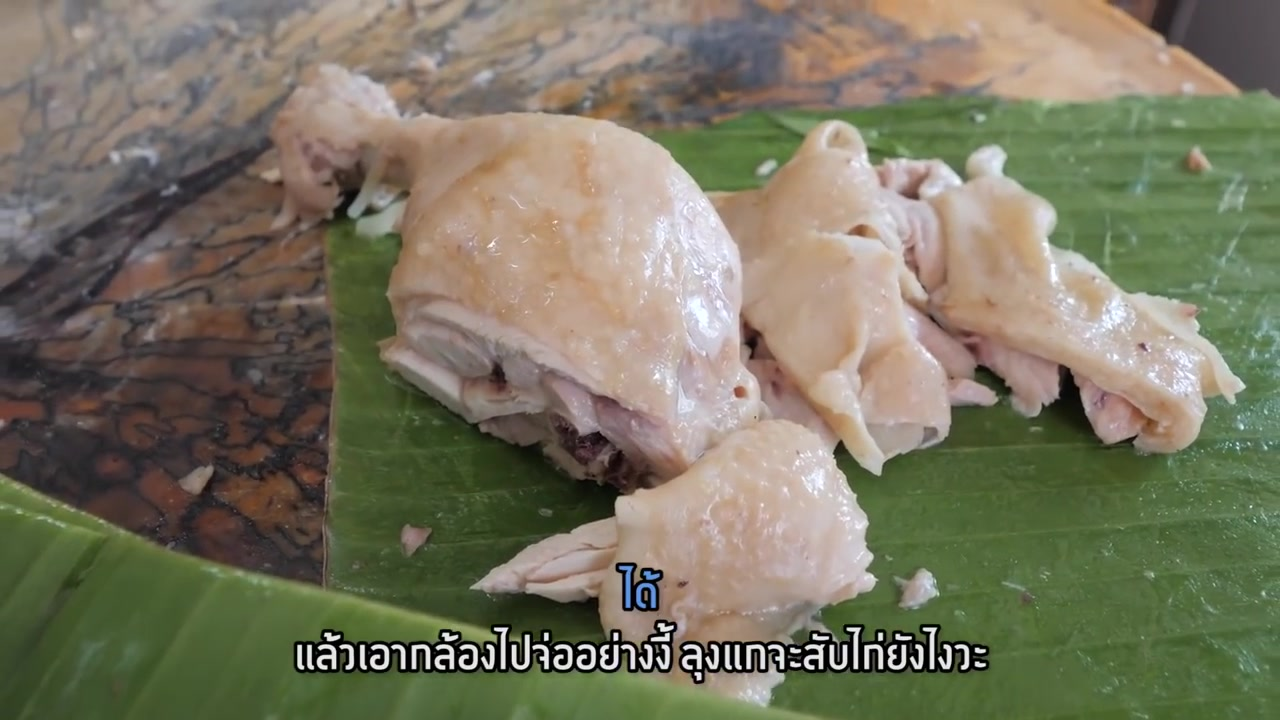text-label: (290, 618, 988, 682), (609, 561, 669, 617)
